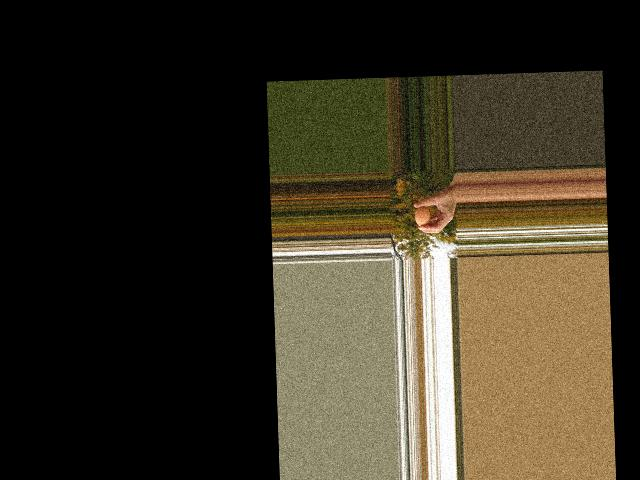egg: (414, 206, 430, 226)
